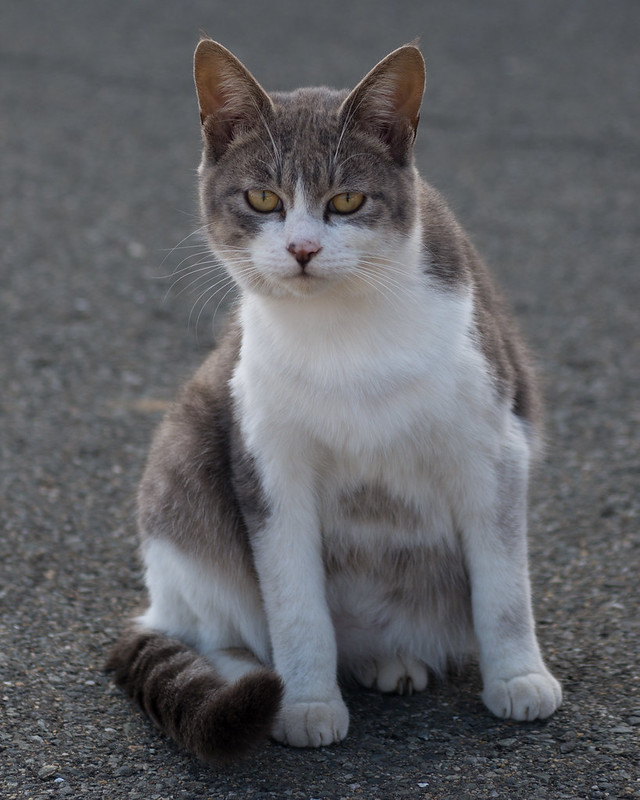cat: (115, 31, 573, 740)
